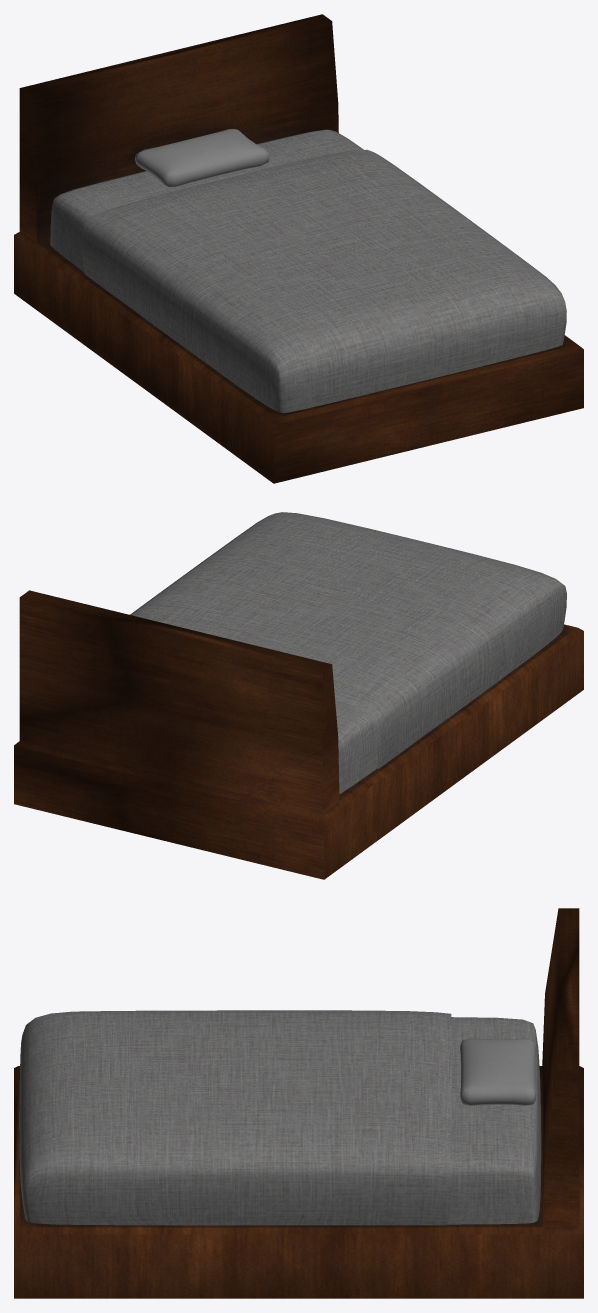
Rendered from Bed_low.fbx.
3 renders of one model, top to bottom at view 1: azimuth 30°, elevation 25°; view 2: azimuth 150°, elevation 25°; view 3: azimuth 270°, elevation 25°, orthographic. The views are drawn at different scales.
Visible parts, largest first — view 1: Bed_low; view 2: Bed_low; view 3: Bed_low.
Boxes of the visible parts, <box> form: Bed_low: <box>14,14,583,483</box>; Bed_low: <box>14,512,583,879</box>; Bed_low: <box>14,908,583,1298</box>.
Bounding box in the file's own units: 163 × 103 × 236.
